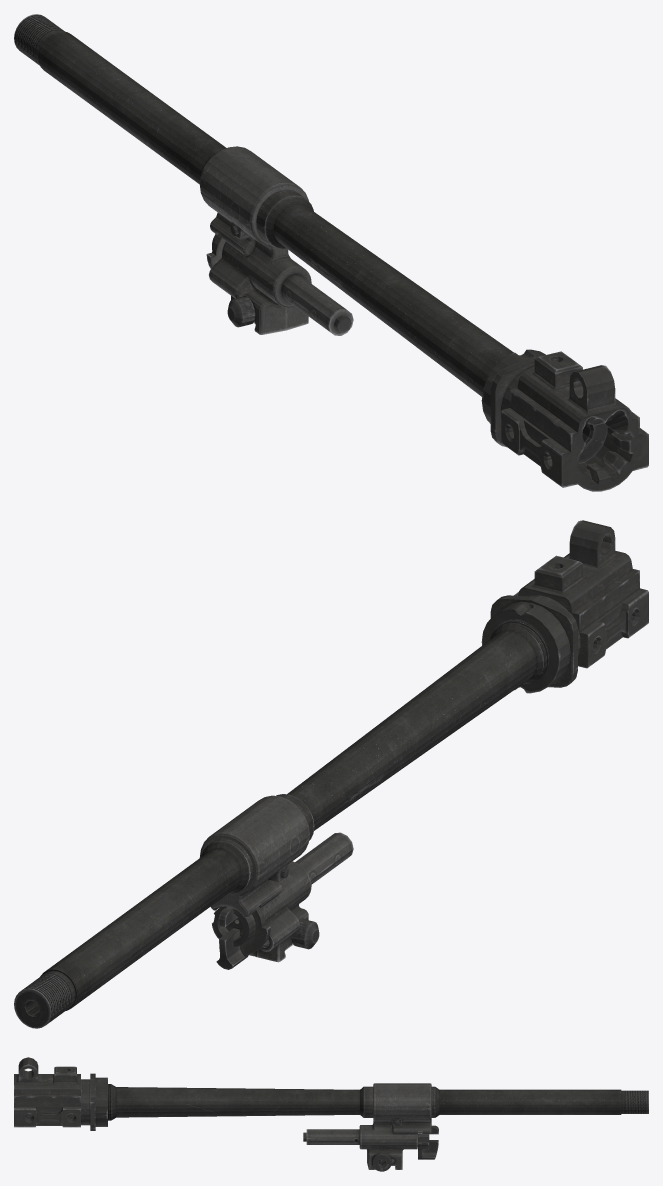
3 views of the same model, one above another, from view 1: azimuth 30°, elevation 25°; view 2: azimuth 150°, elevation 25°; view 3: azimuth 270°, elevation 25° (orthographic). The views are drawn at different scales.
Visible parts, largest first — view 1: TW_6183fd911cb55961fa0fdce9_PZ_Import; view 2: TW_6183fd911cb55961fa0fdce9_PZ_Import; view 3: TW_6183fd911cb55961fa0fdce9_PZ_Import.
Boxes of the visible parts, <box> form: TW_6183fd911cb55961fa0fdce9_PZ_Import: <box>14,14,648,491</box>; TW_6183fd911cb55961fa0fdce9_PZ_Import: <box>14,520,648,1028</box>; TW_6183fd911cb55961fa0fdce9_PZ_Import: <box>14,1057,648,1171</box>.
Bounding box in the file's own units: 0.0187 × 0.2124 × 0.0378.
1 material, 1 textured.
